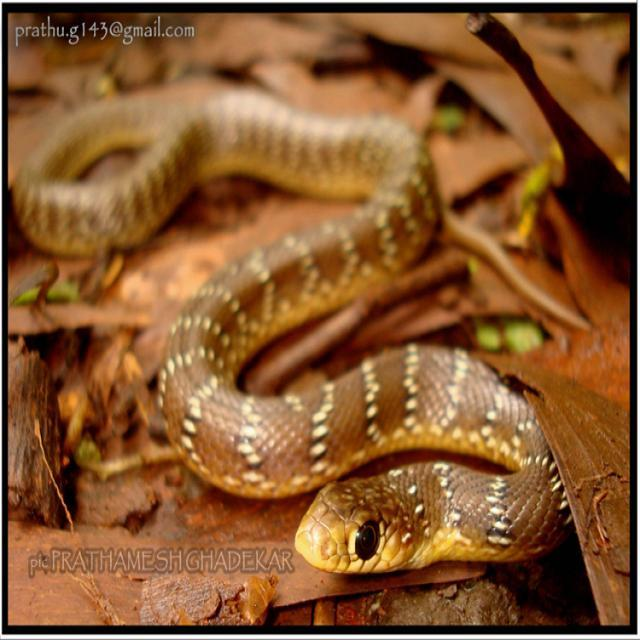Snake: (10, 84, 584, 576)
